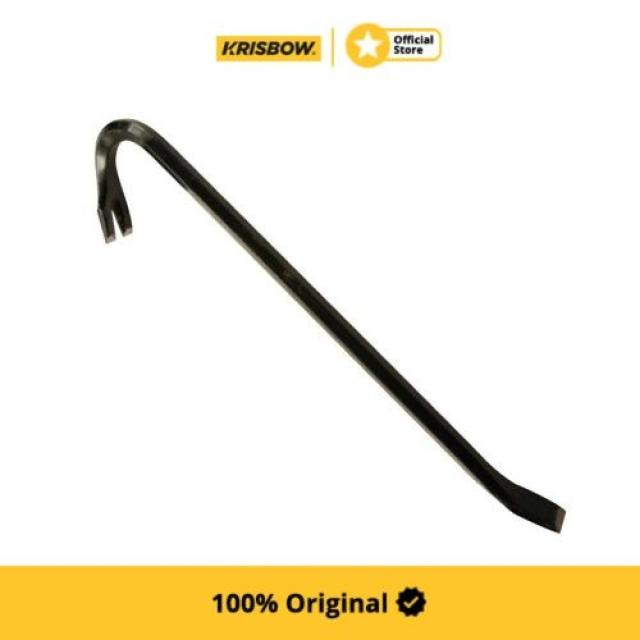Linggis: (92, 119, 570, 539)
